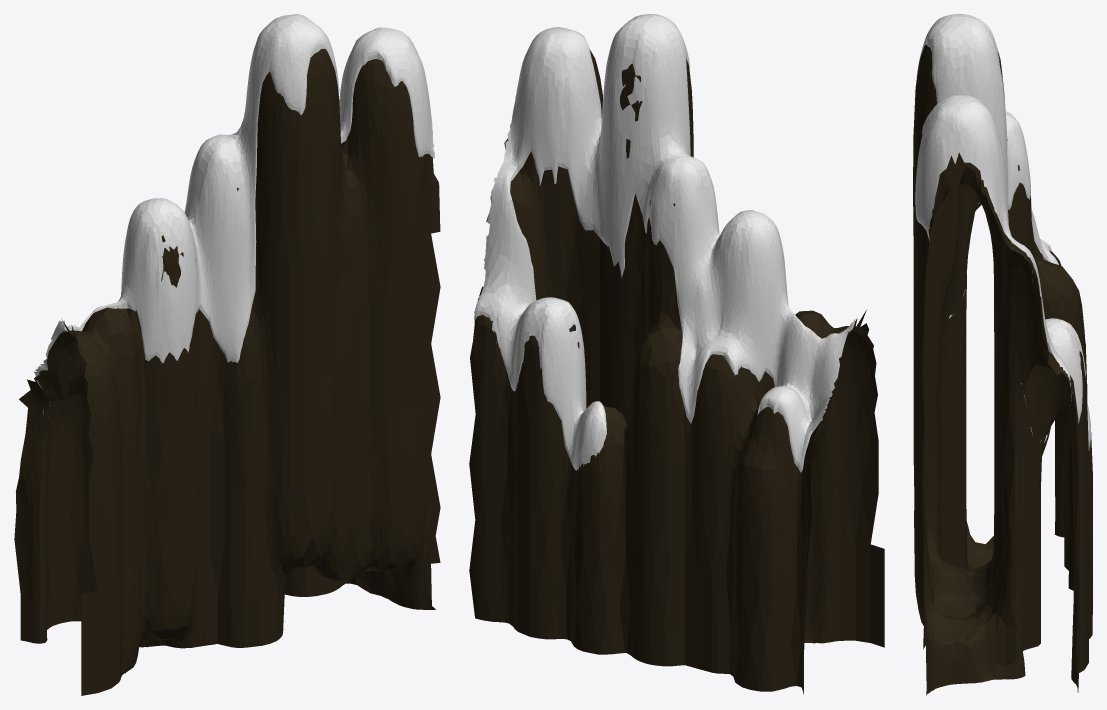
File: Mtn_Wall_E1_M.fbx
The picture shows the model from 3 angles, left to right: view 1: azimuth 30°, elevation 25°; view 2: azimuth 150°, elevation 25°; view 3: azimuth 270°, elevation 25°; orthographic projection. The views are drawn at different scales.
Parts seen in each view (by area): view 1: Mtn_Wall_E1_M; view 2: Mtn_Wall_E1_M; view 3: Mtn_Wall_E1_M.
Boxes of the visible parts, x1=… form: Mtn_Wall_E1_M: x1=14, y1=14, x2=440, y2=695; Mtn_Wall_E1_M: x1=469, y1=14, x2=884, y2=694; Mtn_Wall_E1_M: x1=913, y1=14, x2=1092, y2=695.
Bounding box in the file's own units: 22523 × 36585 × 9688.
